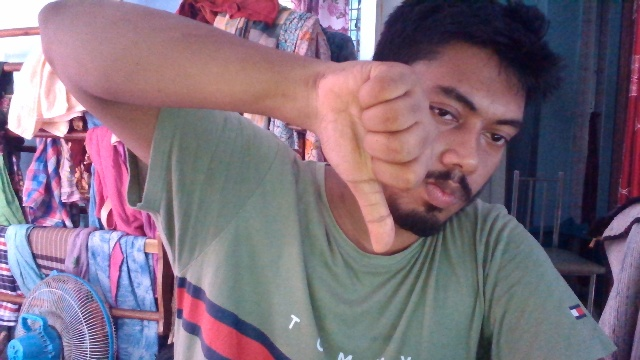no: (308, 49, 430, 261)
